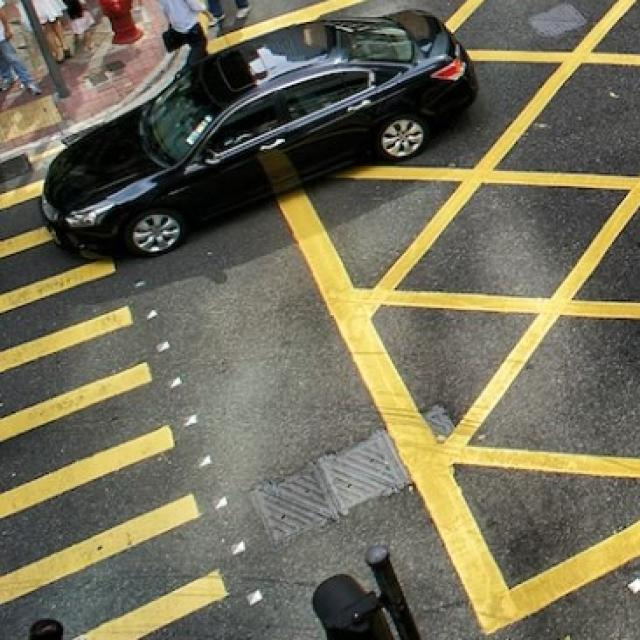car: (40, 5, 479, 261)
